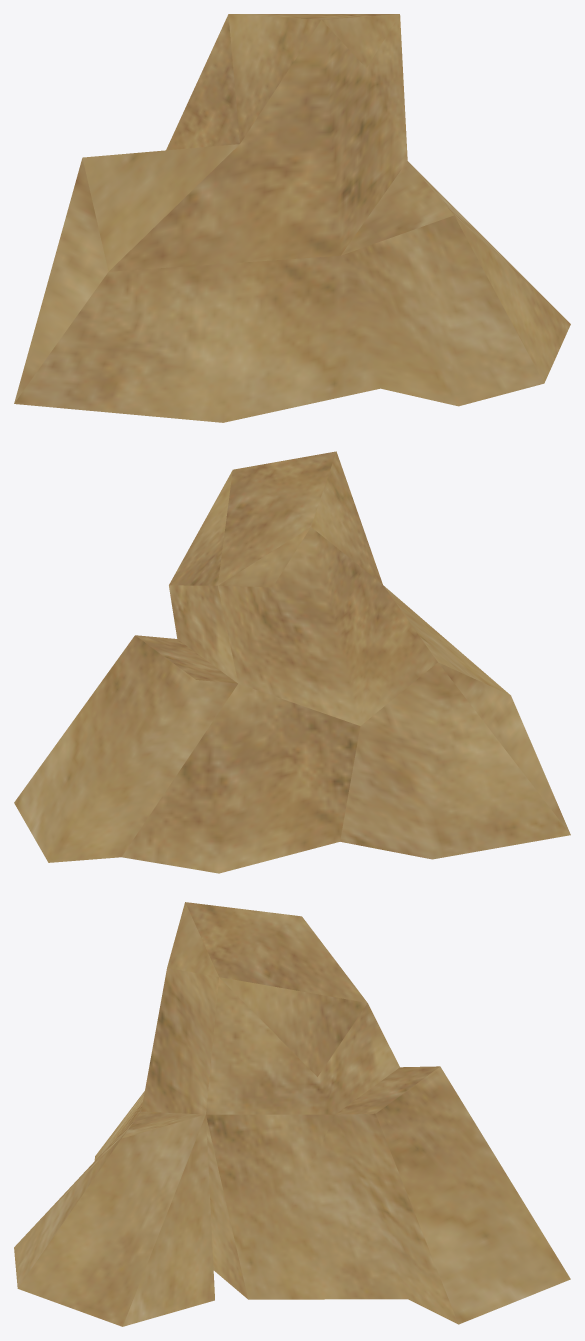
The model's file is rock_clump02.glb.
3 views of the same model, one above another, from view 1: azimuth 30°, elevation 25°; view 2: azimuth 150°, elevation 25°; view 3: azimuth 270°, elevation 25° (orthographic). The views are drawn at different scales.
Visible parts, largest first — view 1: Sphere02; view 2: Sphere02; view 3: Sphere02.
Part boxes in pixels (<box>): Sphere02: <box>14,14,570,422</box>; Sphere02: <box>14,451,570,873</box>; Sphere02: <box>14,902,570,1326</box>.
Bounding box in the file's own units: 19.46 × 12.42 × 19.44.
1 material, 1 textured.
